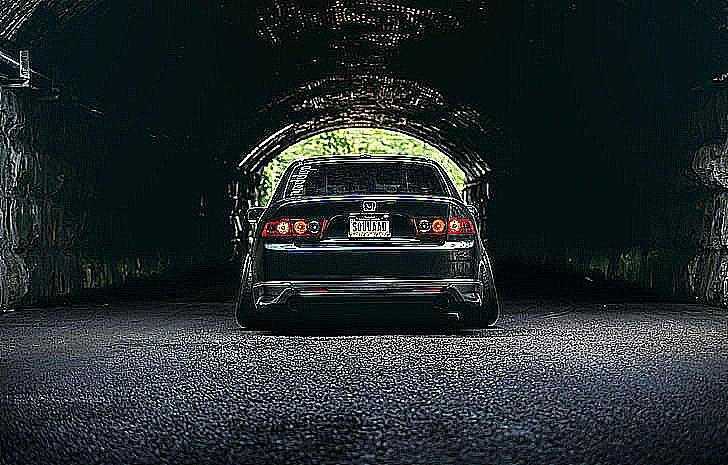Car boot: (283, 197, 452, 285)
Rear bumper: (250, 243, 488, 311)
Rear light - -L-: (256, 215, 331, 242)
Rear light - -R-: (408, 213, 480, 243)
Side mirror - -L-: (245, 204, 270, 224)
Side mirror - -R-: (462, 200, 486, 220)
